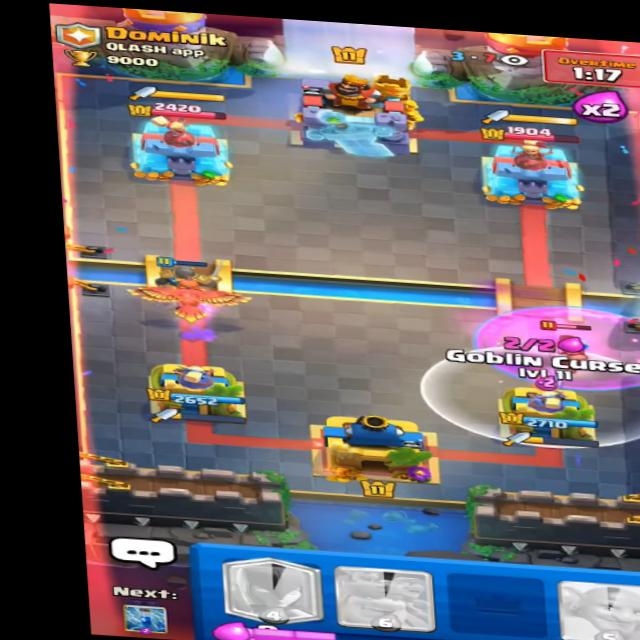ram-rider: (537, 319, 606, 376)
